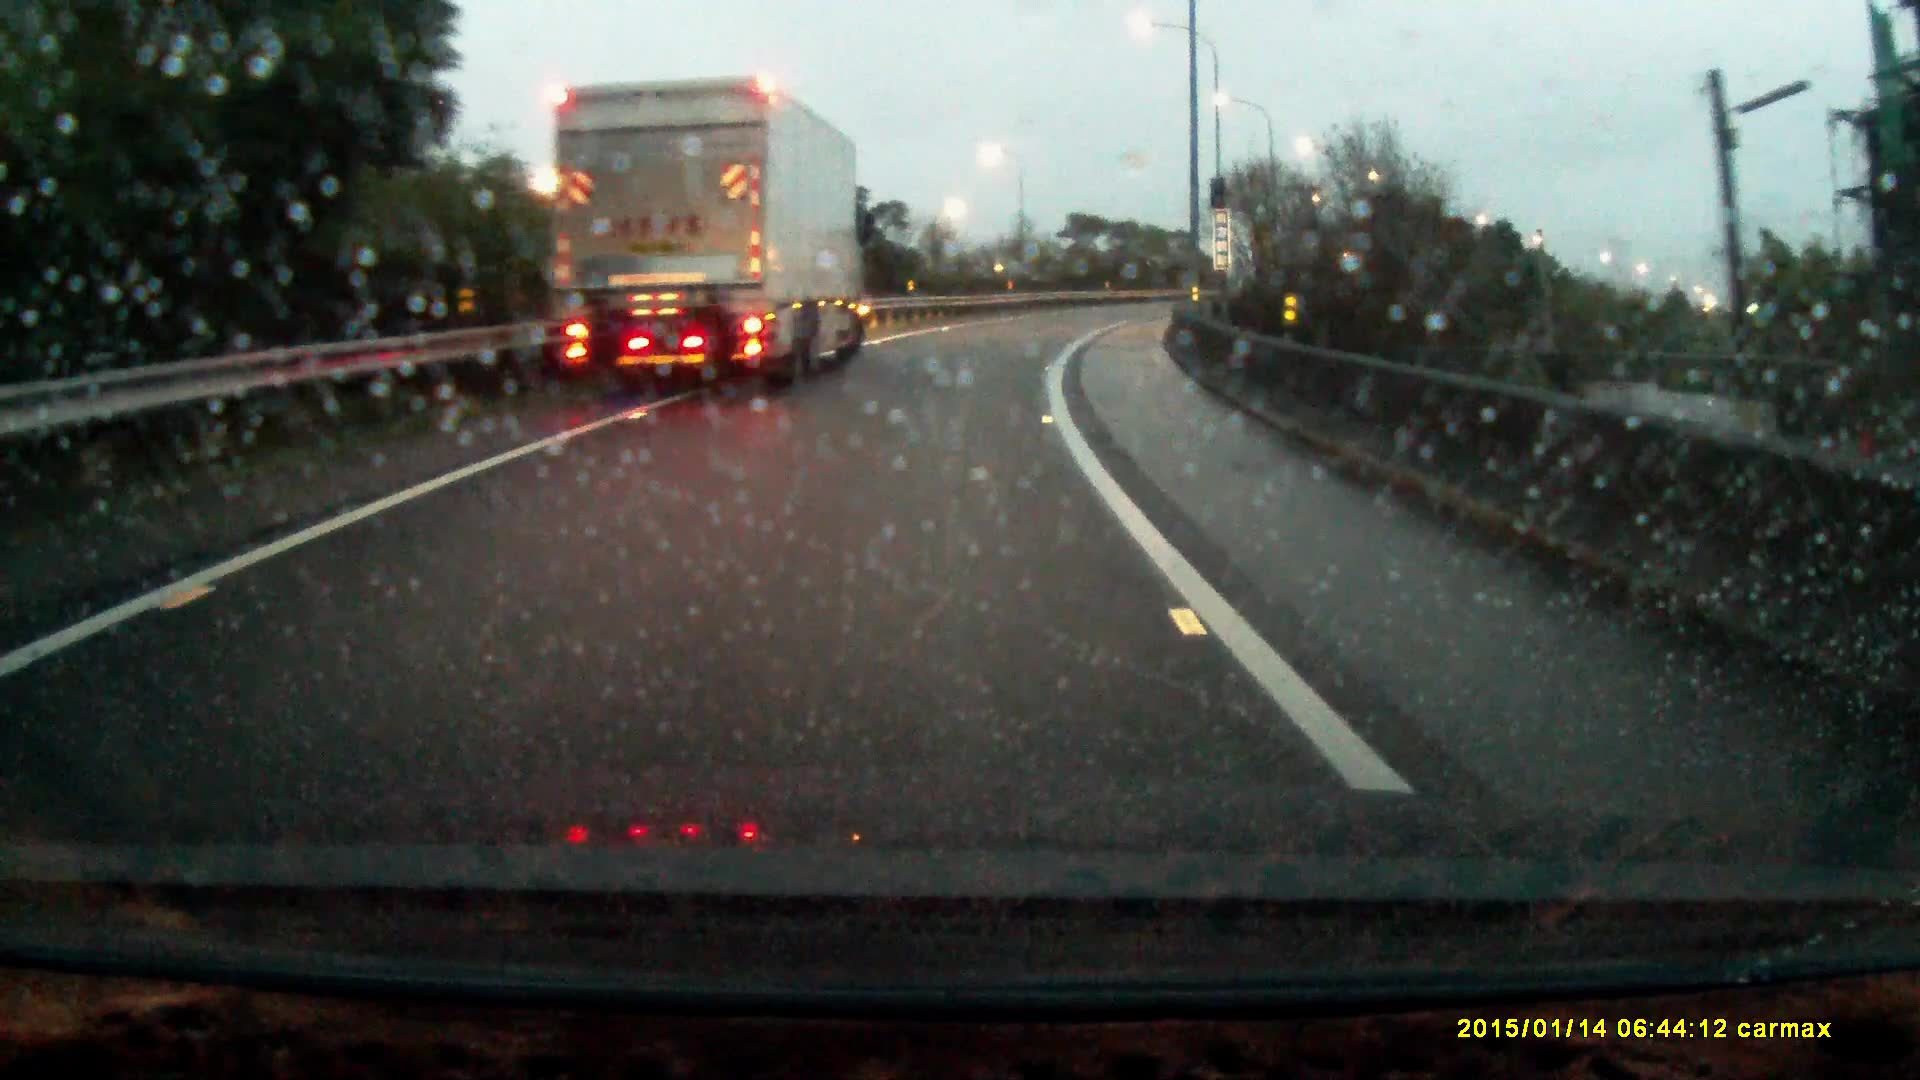vehicle: (545, 76, 870, 393)
